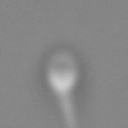normal: (55, 92, 85, 128)
